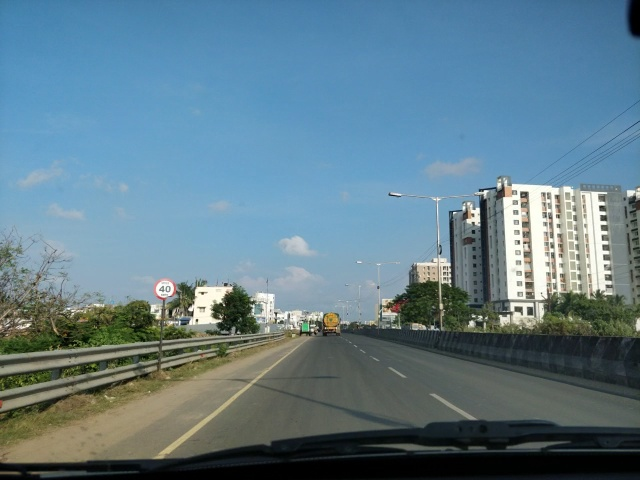auto: (299, 321, 312, 333)
truck: (322, 312, 343, 337)
